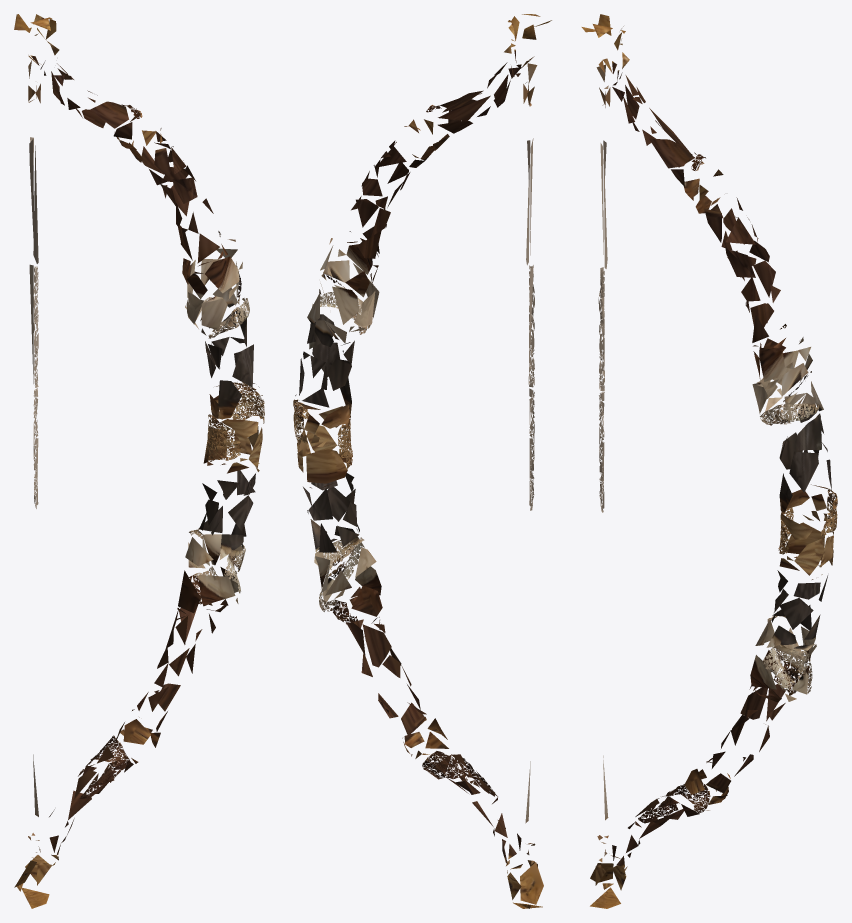
Rendered from bow.glb.
3 renders of one model, left to right at view 1: azimuth 30°, elevation 25°; view 2: azimuth 150°, elevation 25°; view 3: azimuth 330°, elevation 25°, orthographic.
Visible parts, largest first — view 1: node_0; view 2: node_0; view 3: node_0.
Part boxes in pixels (bbox=[...]): node_0: bbox=[14, 14, 264, 908]; node_0: bbox=[293, 14, 551, 908]; node_0: bbox=[581, 14, 837, 908].
Bounding box in the file's own units: 0.3187 × 1.1 × 0.0797.
1 material, 1 textured.
